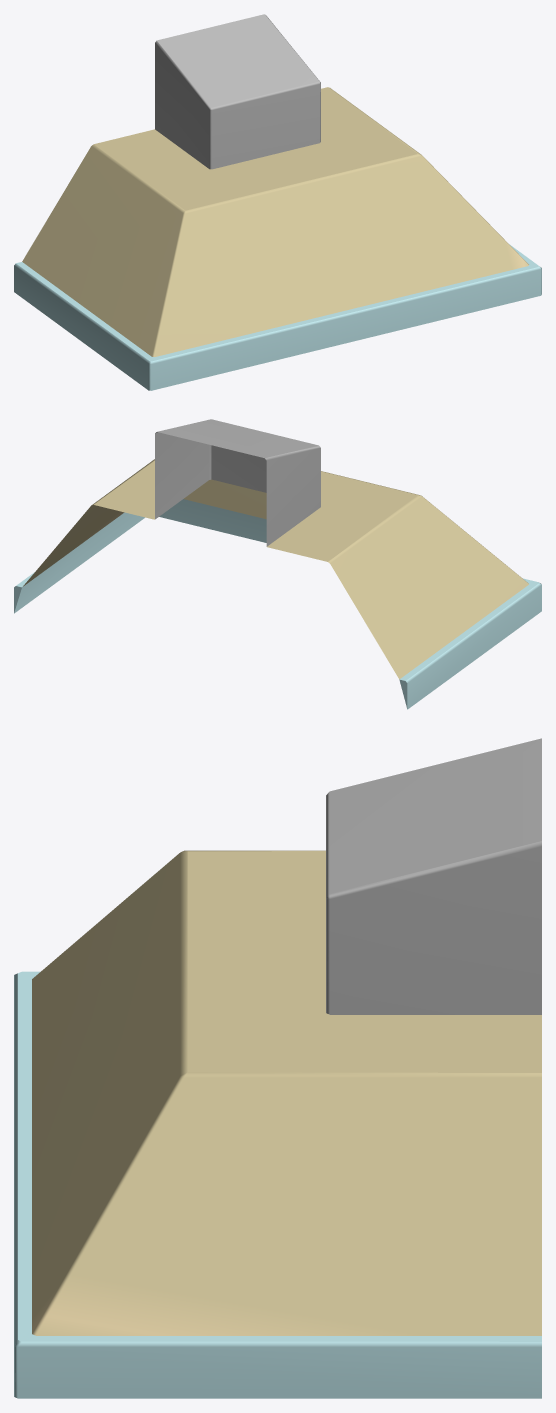
File: Hood.fbx
3 renders of one model, top to bottom at view 1: azimuth 30°, elevation 25°; view 2: azimuth 150°, elevation 25°; view 3: azimuth 270°, elevation 25°, orthographic. The views are drawn at different scales.
Visible parts, largest first — view 1: Hood; view 2: Hood; view 3: Hood.
Boxes of the visible parts, bbox=[...] form: Hood: bbox=[14, 14, 541, 390]; Hood: bbox=[14, 419, 541, 709]; Hood: bbox=[14, 738, 541, 1398].
Bounding box in the file's own units: 58.05 × 30.56 × 34.66.
